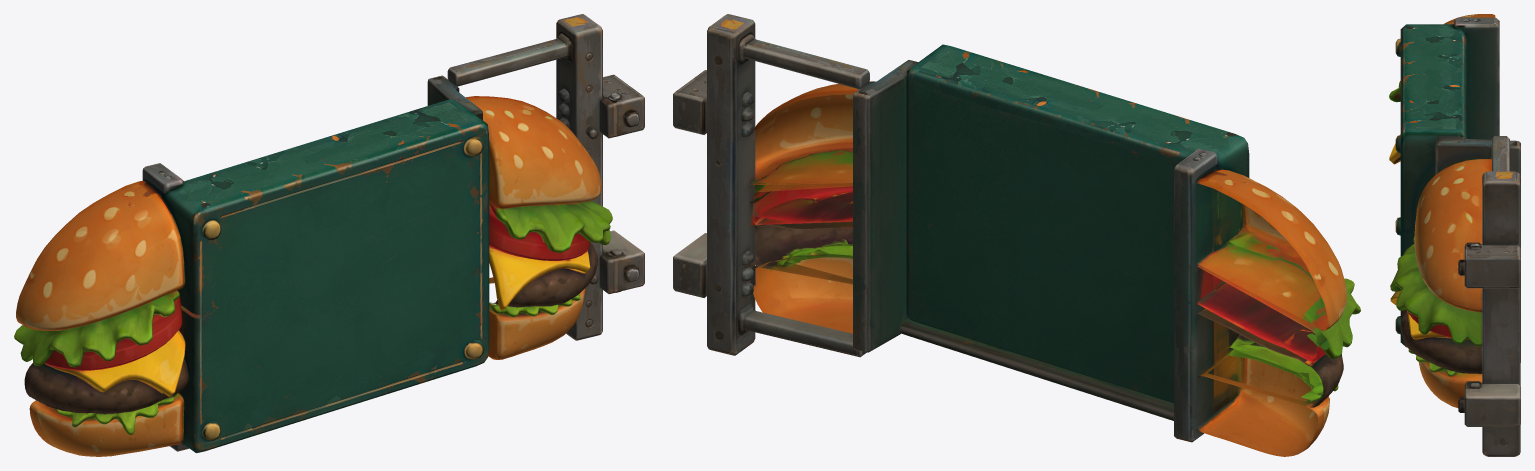
The model's file is P05_burger_sign_Runtime_1k.glb.
3 renders of one model, left to right at view 1: azimuth 30°, elevation 25°; view 2: azimuth 150°, elevation 25°; view 3: azimuth 270°, elevation 25°, orthographic. The views are drawn at different scales.
Visible parts, largest first — view 1: e223b123_883a_42b8_8685_ec588a81531c; view 2: e223b123_883a_42b8_8685_ec588a81531c; view 3: e223b123_883a_42b8_8685_ec588a81531c.
Boxes of the visible parts, x1,y1,x2,y2 form: e223b123_883a_42b8_8685_ec588a81531c: (14,14,644,456); e223b123_883a_42b8_8685_ec588a81531c: (673,14,1360,456); e223b123_883a_42b8_8685_ec588a81531c: (1389,14,1520,456).
Size of the model in its own units: 2.8 by 1.35 by 0.5841.
1 material, 1 textured.
